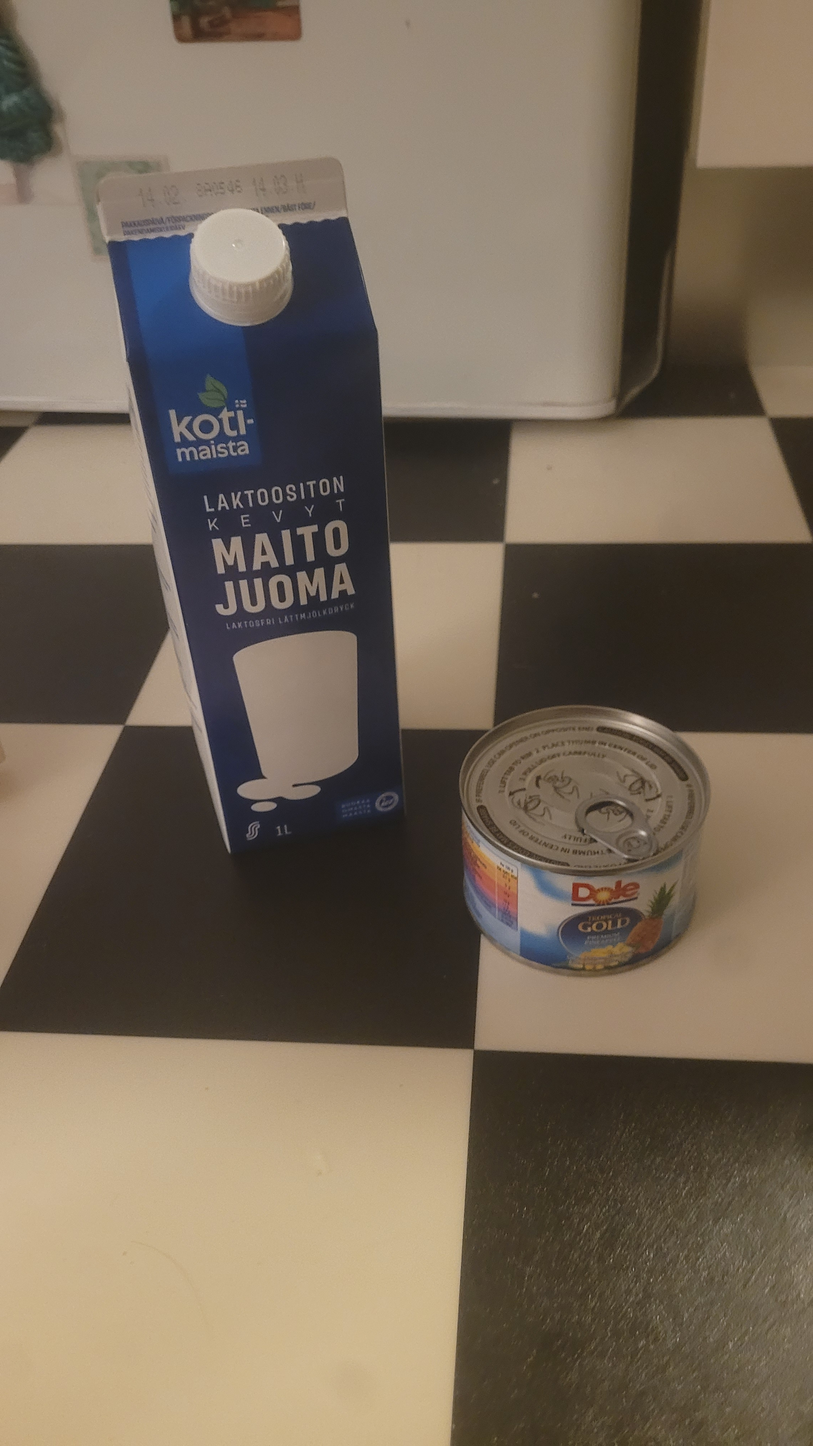Dryckeskartong: (99, 157, 408, 856)
Konservburk: (458, 704, 712, 978)
